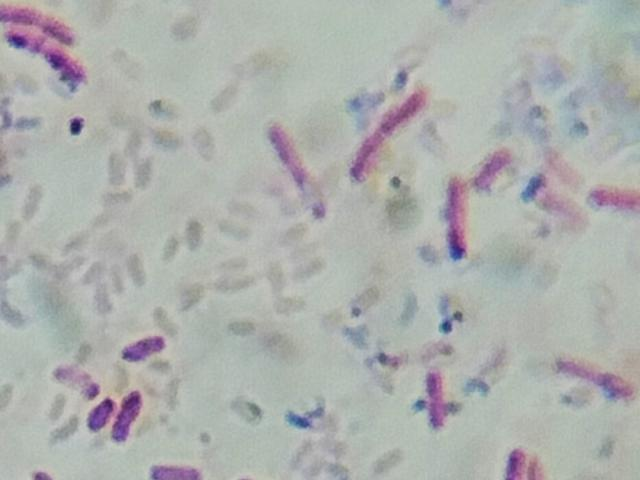E. coli: (351, 91, 432, 178), (269, 125, 321, 209), (556, 353, 638, 401), (0, 0, 79, 41), (9, 32, 78, 75), (416, 365, 454, 429), (468, 140, 509, 194), (586, 181, 640, 219), (445, 175, 470, 254), (500, 444, 545, 480), (116, 387, 140, 447), (83, 387, 114, 429), (123, 333, 166, 361), (153, 459, 208, 480)
